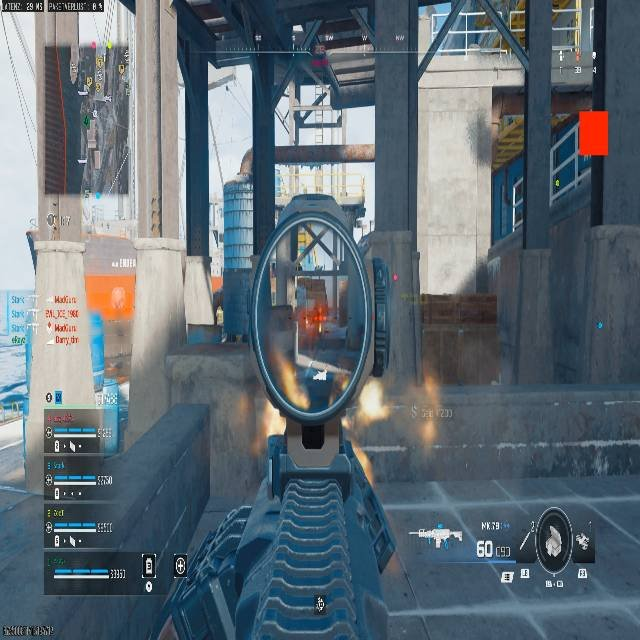player: (99, 364, 133, 444)
